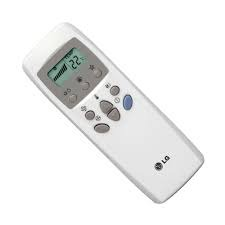remote control: (13, 18, 209, 211)
